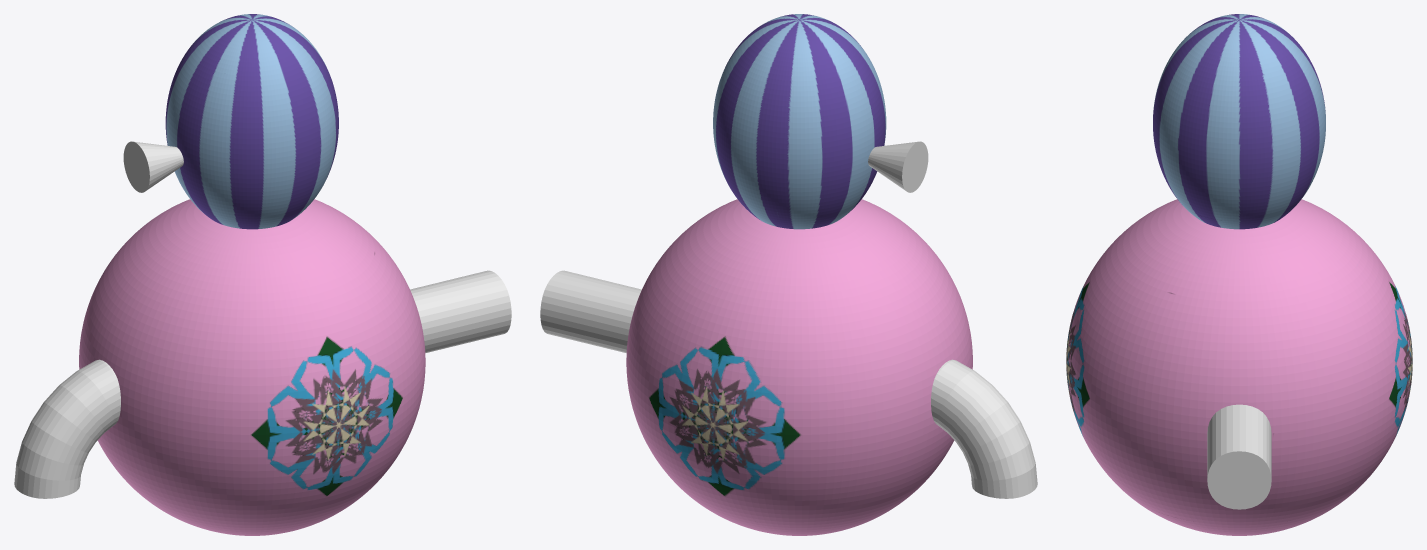
File: BOD0_BMC9_BCC17_BPT0_FRC7_HEA2_HMC15_HCC9_HPT2_ELT3_ERT0_ELL0_ERL2_AP3_AAL2_AAR0_BEK0.fbx
3 renders of one model, left to right at view 1: azimuth 30°, elevation 25°; view 2: azimuth 150°, elevation 25°; view 3: azimuth 270°, elevation 25°, orthographic.
Parts seen in each view (by area): view 1: Body, Arm.001, Arm, Ear; view 2: Body, Arm.001, Arm, Ear; view 3: Body, Arm.
Boxes of the visible parts, box(x1,y1,x2,y2) form: Body: box(79, 14, 425, 535); Arm.001: box(14, 359, 120, 498); Arm: box(410, 270, 511, 352); Ear: box(123, 141, 183, 192); Body: box(626, 14, 972, 535); Arm.001: box(931, 359, 1037, 498); Arm: box(540, 270, 641, 352); Ear: box(868, 141, 928, 192); Body: box(1066, 14, 1412, 535); Arm: box(1207, 404, 1271, 509).
Bounding box in the file's own units: 78.31 × 78.65 × 49.36.
1 material, 1 textured.
